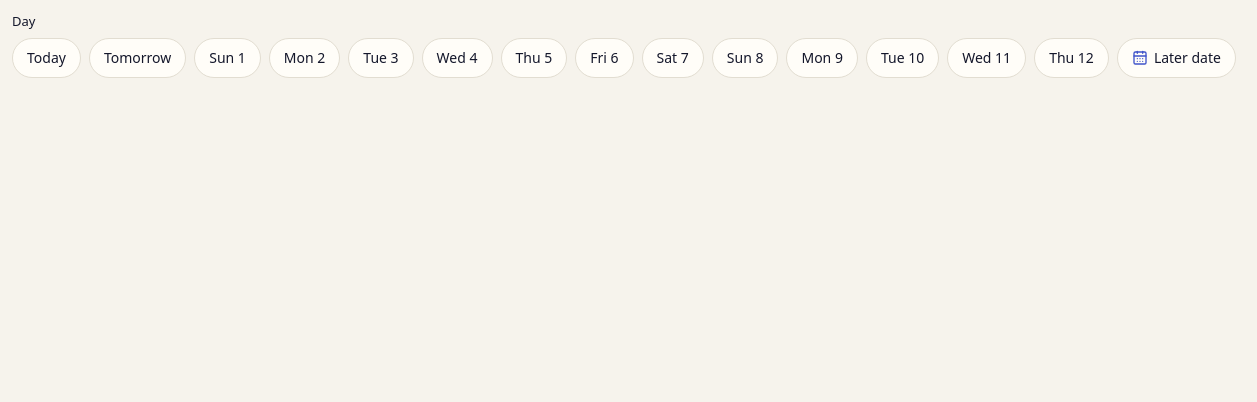
Test: DayPicker › keeps a single day and closes the calendar once one is picked
Click the button "Today". click: (46, 58)
box: [12, 38, 81, 78]
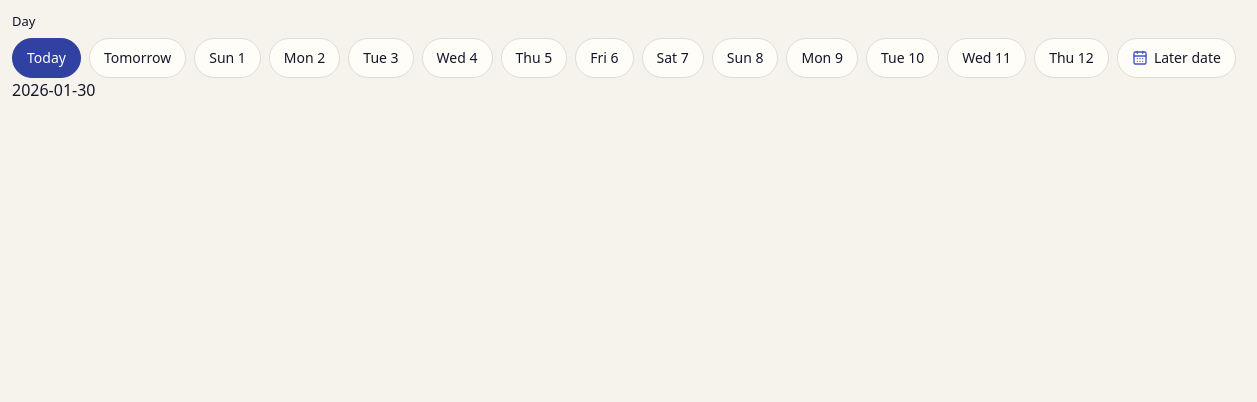
Click the button "Later date". click: (1176, 58)
box: [1117, 38, 1236, 78]
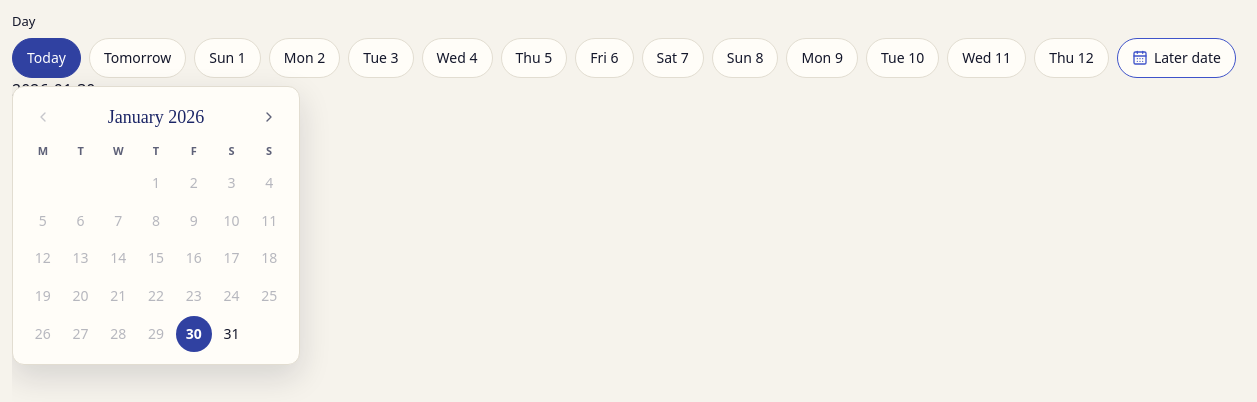
Click the button named "Saturday 31 January". click: (231, 334)
box: [214, 316, 249, 352]
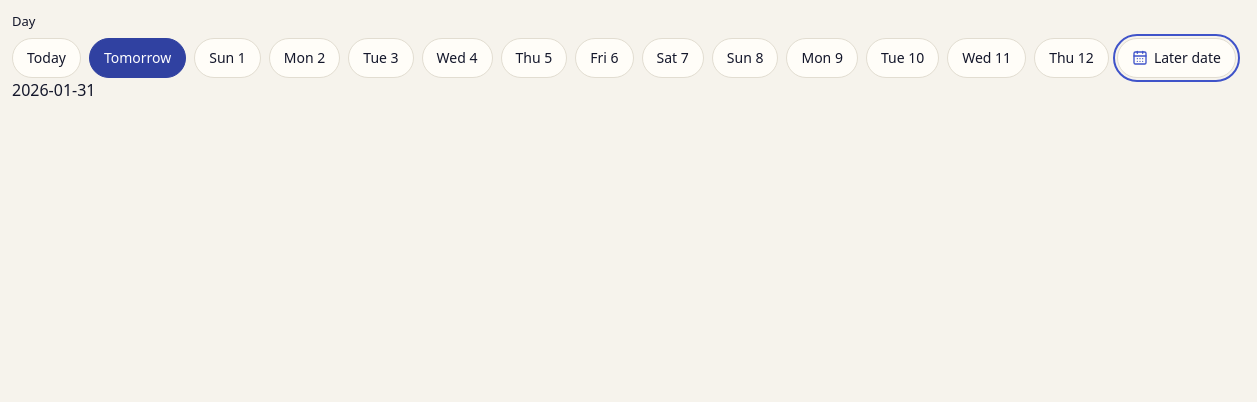
Now the text "January 2026" is gone
Now the text "2026-01-31" is shown, box [12, 78, 96, 100]
